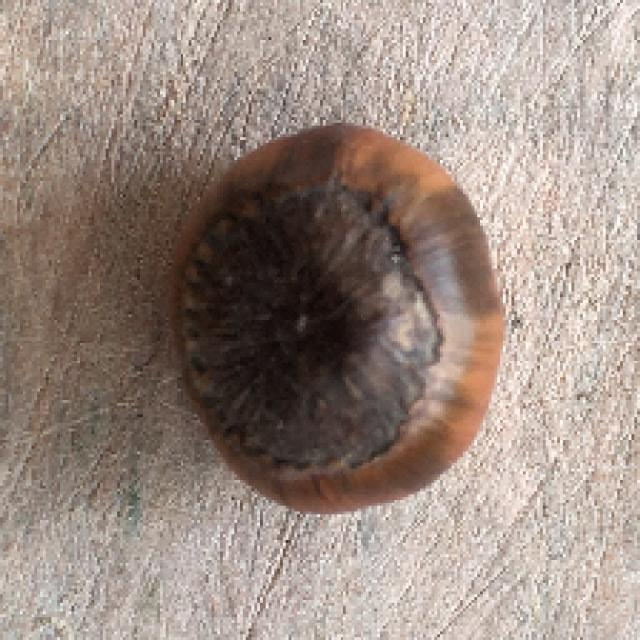DamagedHazelnut: (161, 119, 510, 516)
